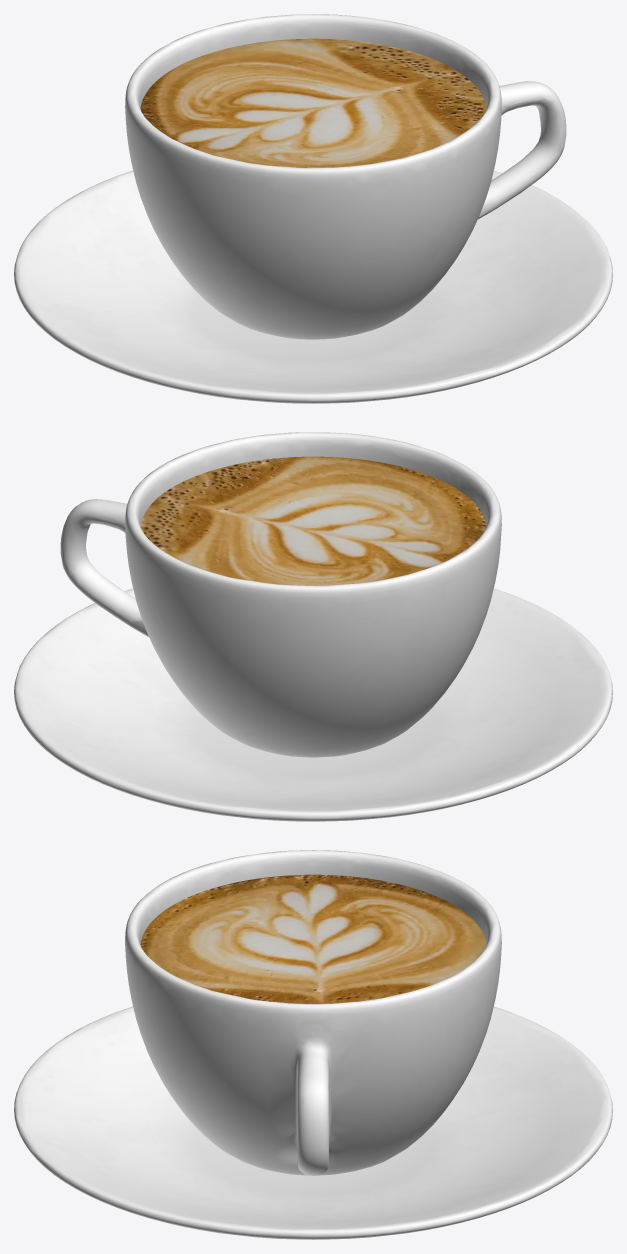
The model's file is coffee.glb.
3 views of the same model, one above another, from view 1: azimuth 30°, elevation 25°; view 2: azimuth 150°, elevation 25°; view 3: azimuth 270°, elevation 25° (orthographic).
Visible parts, largest first — view 1: Coffee_Cup; view 2: Coffee_Cup; view 3: Coffee_Cup.
Boxes of the visible parts, bbox=[...] form: Coffee_Cup: bbox=[14, 14, 612, 403]; Coffee_Cup: bbox=[14, 432, 612, 821]; Coffee_Cup: bbox=[14, 850, 612, 1239].
Bounding box in the file's own units: 0.1985 × 0.085 × 0.1985.
1 material, 1 textured.
